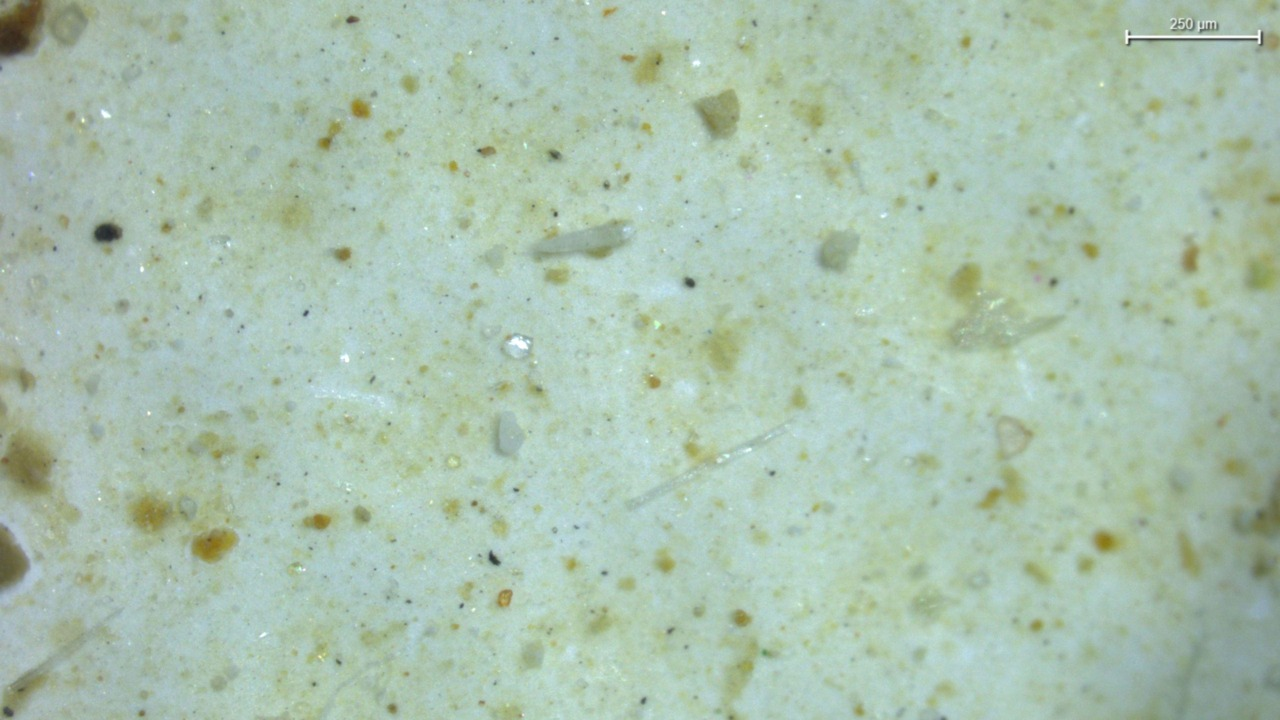microplastic_fragment: (951, 293, 1063, 350), (535, 221, 633, 257), (694, 90, 740, 138), (816, 230, 860, 272), (496, 412, 525, 456), (503, 334, 532, 358)
